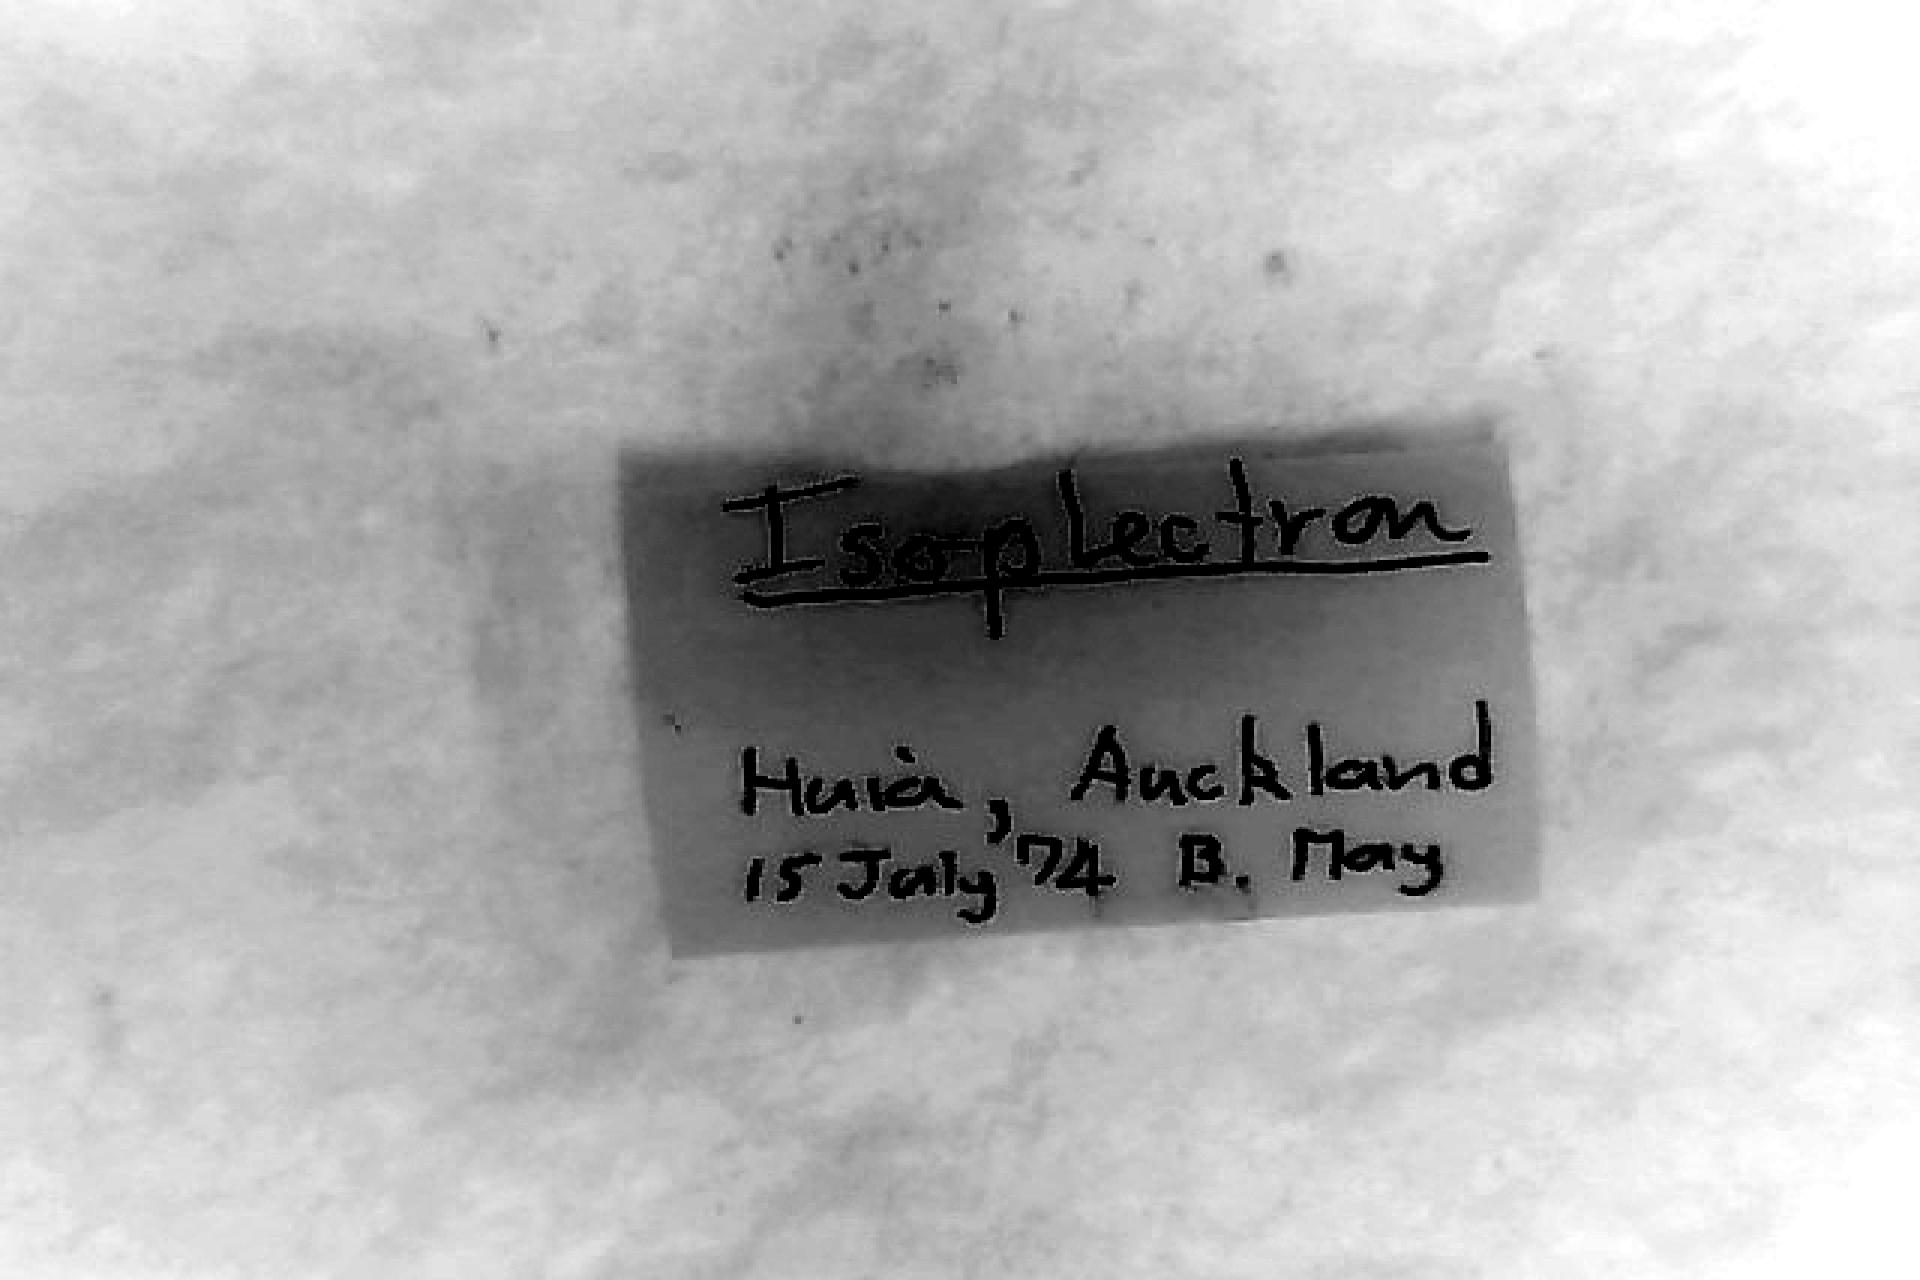hand_label: (626, 450, 1534, 953)
